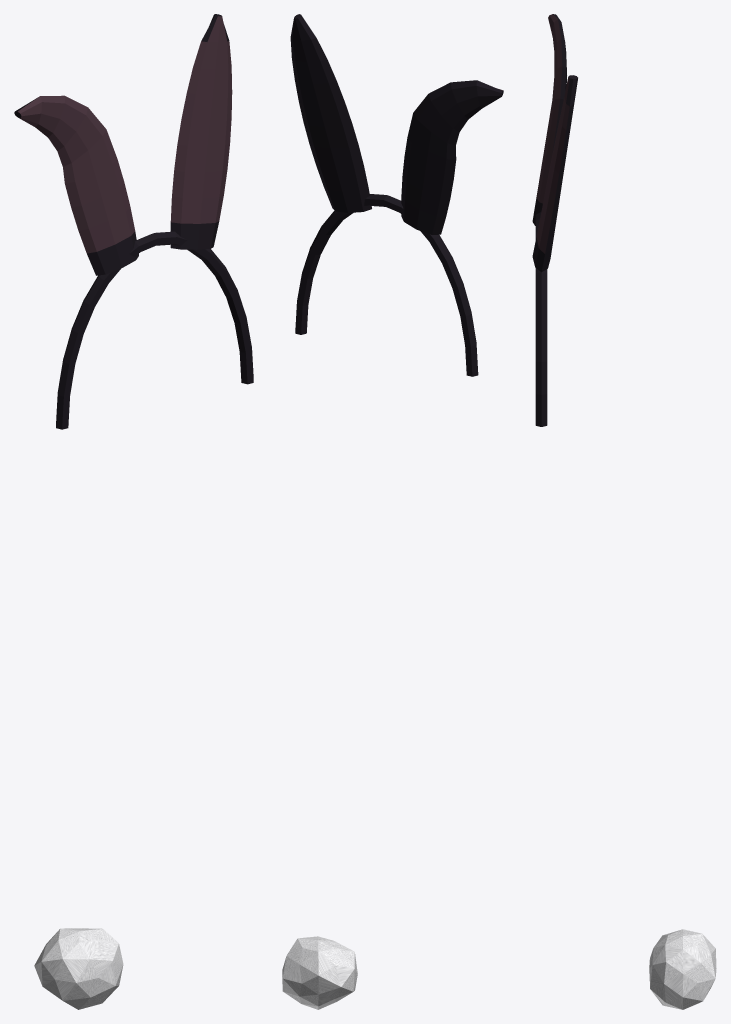
Rendered from SM_Helena_BunnyAccessories.fbx.
3 views of the same model, side by side, from view 1: azimuth 30°, elevation 25°; view 2: azimuth 150°, elevation 25°; view 3: azimuth 270°, elevation 25° (orthographic). The views are drawn at different scales.
Parts seen in each view (by area): view 1: BunnyEars, BunnyTail; view 2: BunnyEars, BunnyTail; view 3: BunnyEars, BunnyTail.
Part boxes in pixels (left/top/right/bottom): BunnyEars: left=14, top=14, right=253, bottom=429; BunnyTail: left=34, top=928, right=123, bottom=1009; BunnyEars: left=290, top=14, right=503, bottom=376; BunnyTail: left=282, top=936, right=357, bottom=1009; BunnyEars: left=532, top=14, right=577, bottom=426; BunnyTail: left=649, top=929, right=716, bottom=1009.
Size of the model in its own units: 0.2792 by 1.17 by 0.2015.
1 material, 1 textured.
